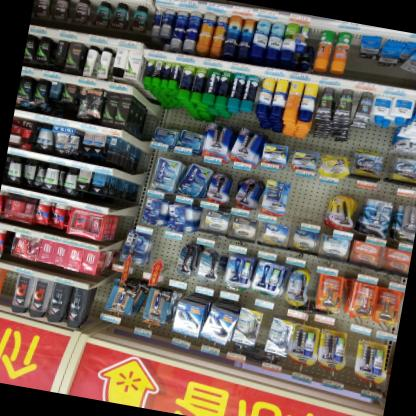empty_space: (283, 177, 334, 232), (140, 234, 180, 285), (0, 267, 18, 312)
